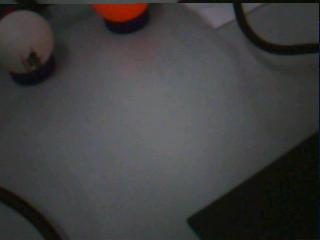oball: (94, 5, 148, 21)
